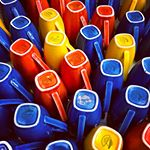cups: (32, 67, 70, 124), (68, 87, 103, 145), (117, 83, 149, 138), (95, 58, 127, 113)
